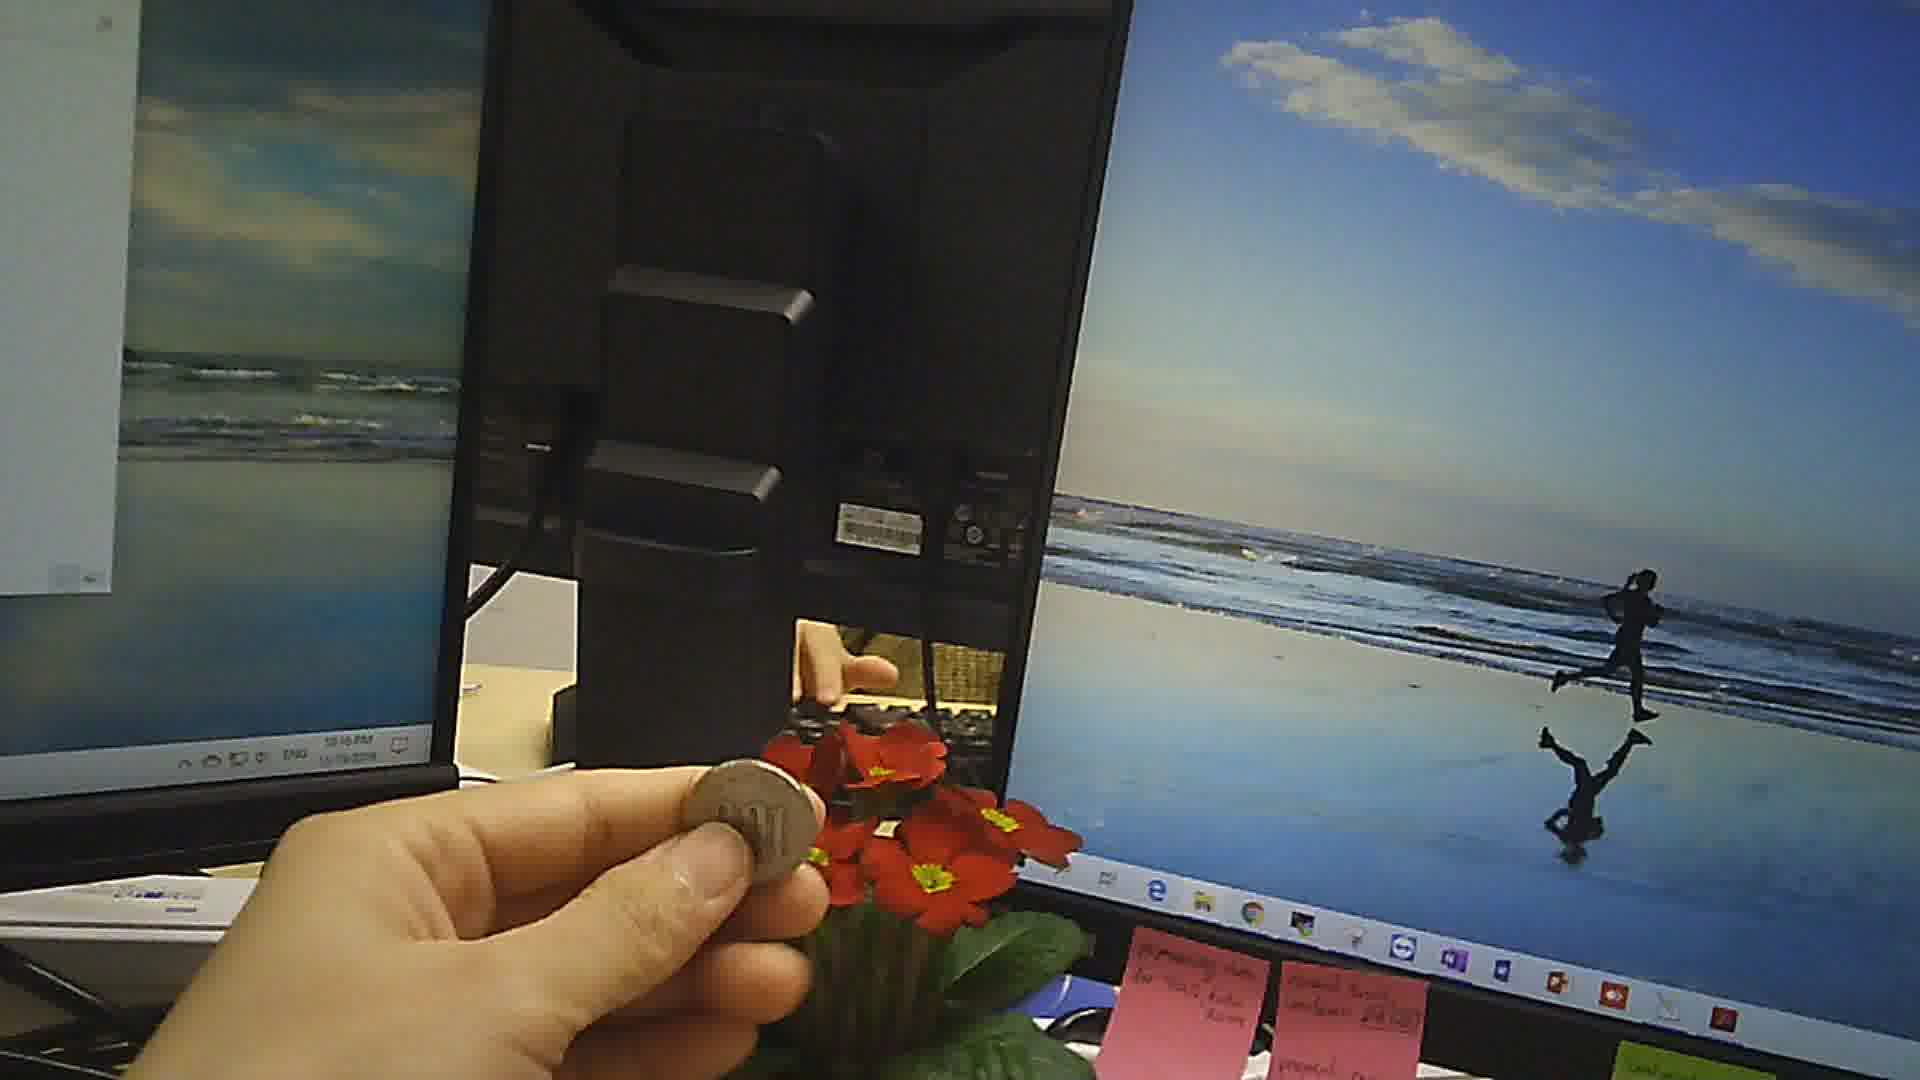100 Yen: (679, 758, 820, 902)
